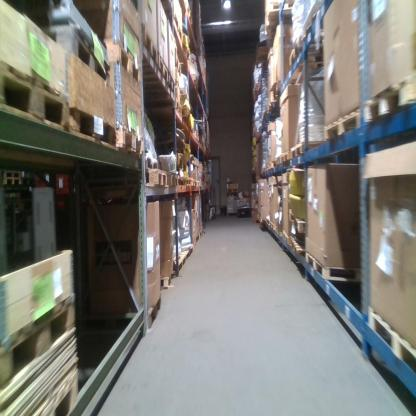pallet: (0, 291, 77, 391), (0, 62, 69, 136), (40, 24, 110, 85), (368, 306, 416, 370), (94, 295, 162, 330), (363, 78, 415, 123), (68, 106, 116, 151), (305, 249, 363, 283), (104, 37, 142, 86), (324, 109, 362, 141), (45, 377, 77, 413), (116, 125, 145, 158), (290, 140, 325, 160), (143, 30, 157, 67), (145, 167, 169, 188), (288, 37, 303, 67), (157, 53, 169, 85), (289, 209, 305, 232), (143, 150, 159, 168), (290, 236, 306, 254), (160, 269, 174, 289), (173, 251, 186, 272), (175, 96, 183, 117), (168, 70, 174, 95), (166, 174, 178, 186), (175, 173, 185, 187), (175, 53, 181, 76), (185, 243, 194, 258), (284, 230, 290, 246), (281, 153, 290, 163), (275, 225, 283, 236), (276, 155, 282, 166), (270, 220, 276, 230), (185, 177, 191, 187), (227, 187, 238, 192), (192, 179, 197, 186)
